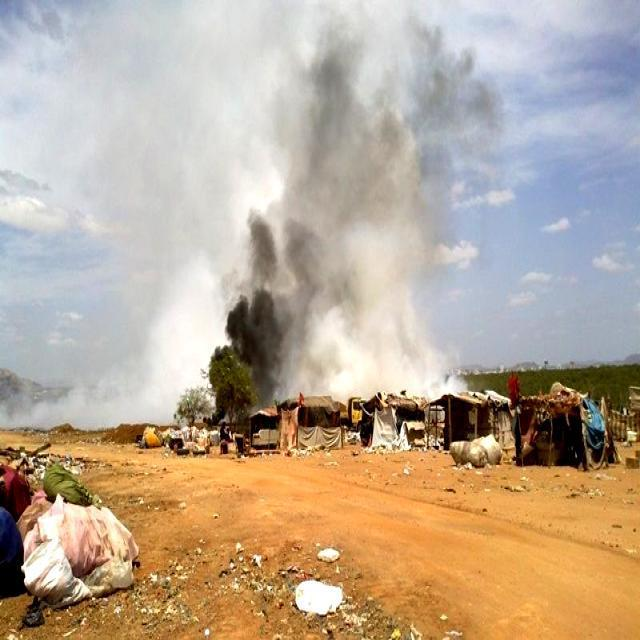Smoke: (208, 6, 488, 422)
